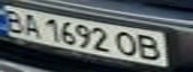1: (39, 16, 63, 43)
2: (90, 25, 115, 54)
6: (54, 19, 78, 46)
9: (72, 21, 93, 50)
A: (18, 11, 45, 38)
B: (133, 32, 166, 62), (0, 7, 27, 34)
O: (112, 29, 142, 58)
